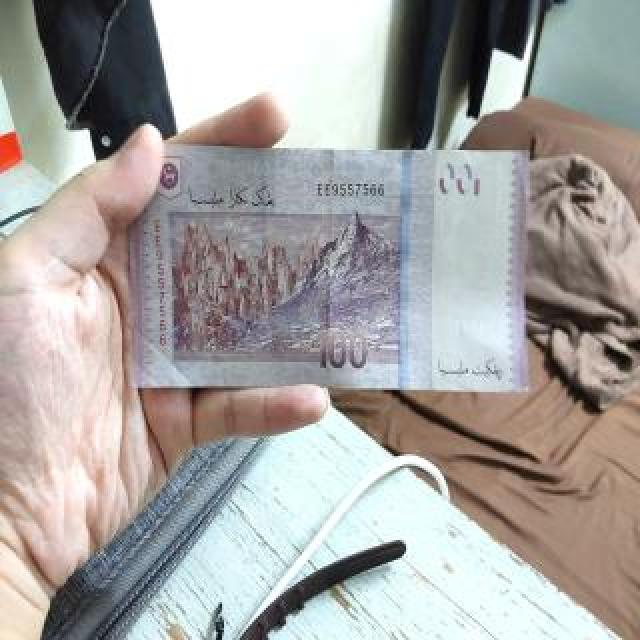100 Ringgit: (128, 148, 527, 390)
